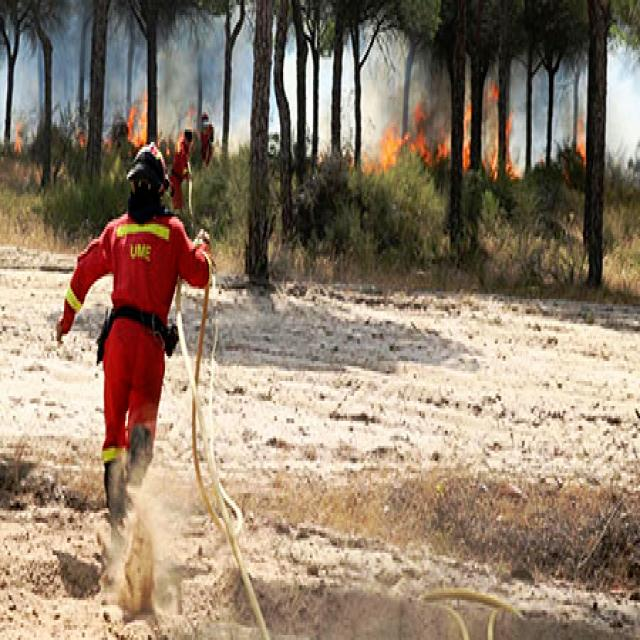api: (358, 95, 523, 185), (124, 89, 150, 152), (570, 113, 589, 168)
